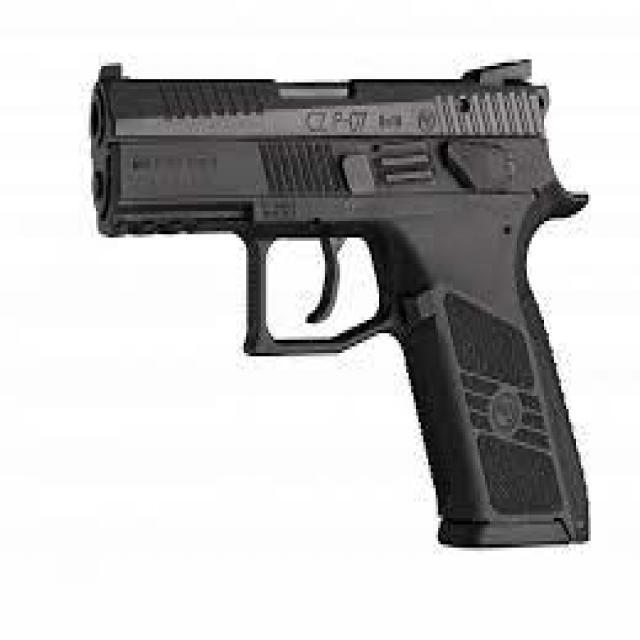semi automatic: (65, 22, 611, 597)
